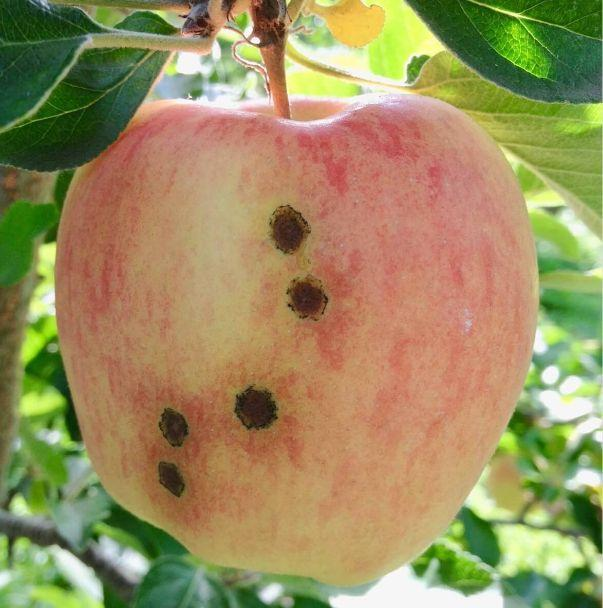SCAB: (49, 69, 548, 601)
